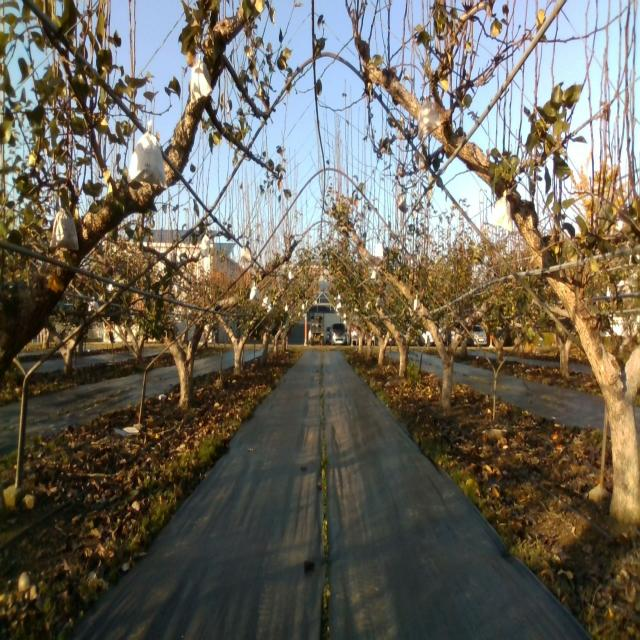pearbags: (126, 119, 166, 186), (50, 207, 79, 253), (490, 193, 517, 233), (190, 53, 212, 101), (417, 96, 441, 140), (396, 192, 407, 214)
